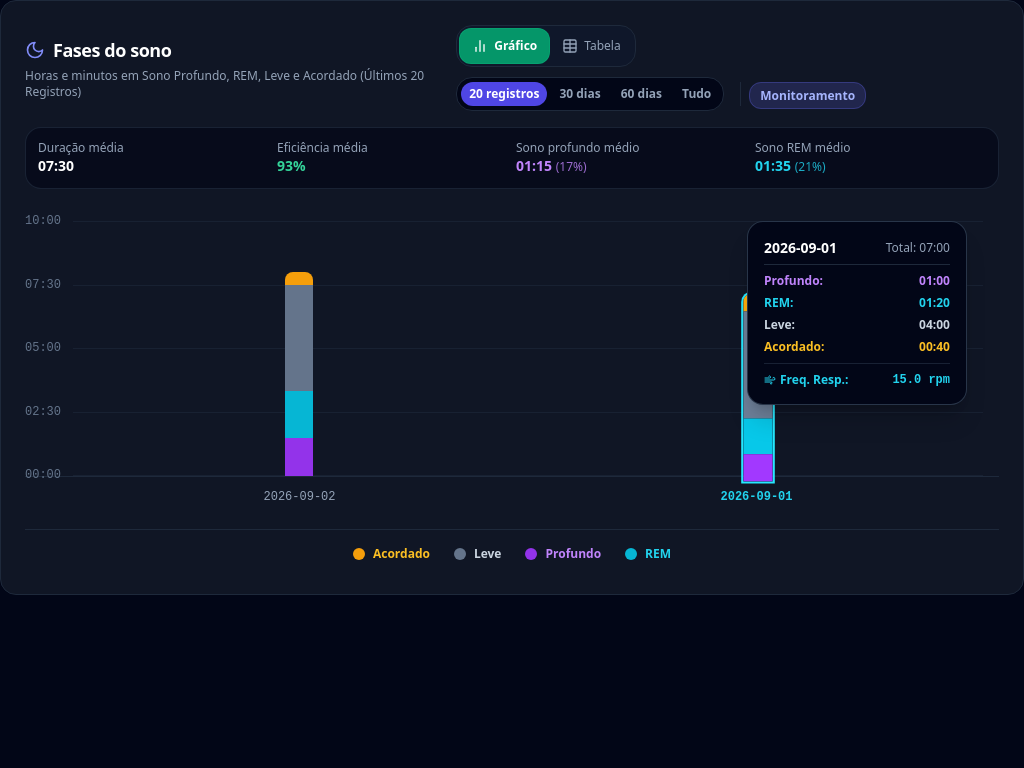
SleepStagesChart (UX_UI_57) › switches between interactive chart and accessible semantic table (U22-P1-35 / U22-P1-64)
Note: Click Tabela
Step 1. Click the button "Tabela" → (591, 46), box [550, 28, 633, 64]
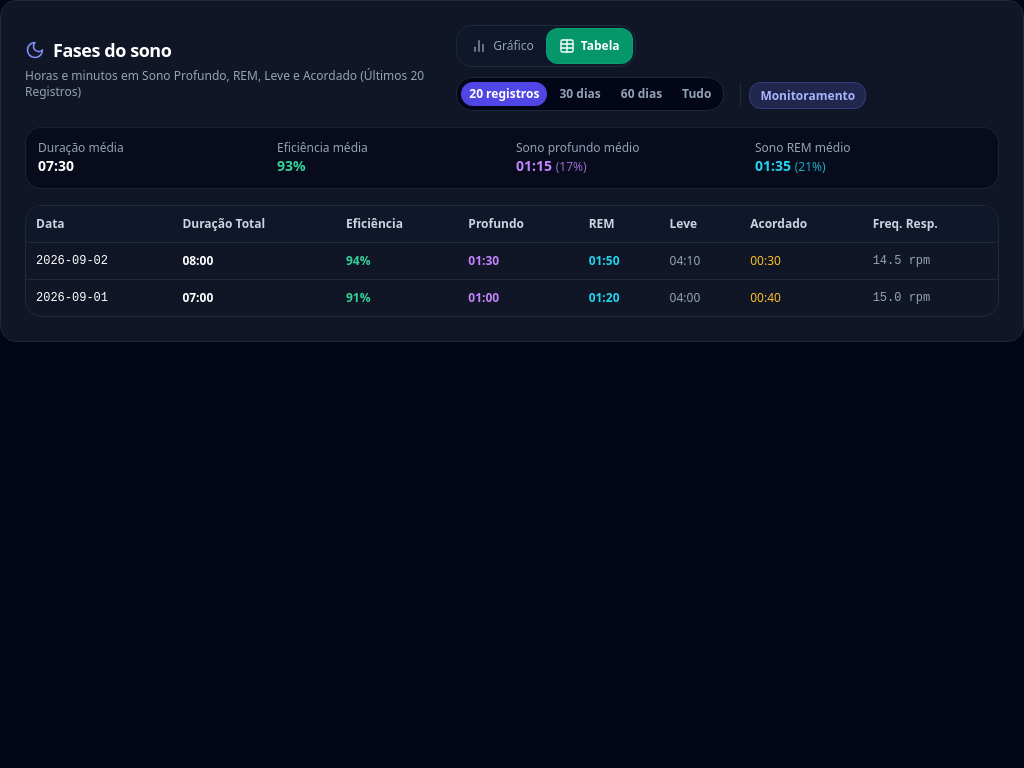
Result: the table named "Tabela detalhada de estágios do sono" is shown at [26, 206, 998, 316]
Result: the column heading "Duração Total" is shown at [172, 206, 336, 242]
Result: the column heading "Eficiência" is shown at [336, 206, 458, 242]
